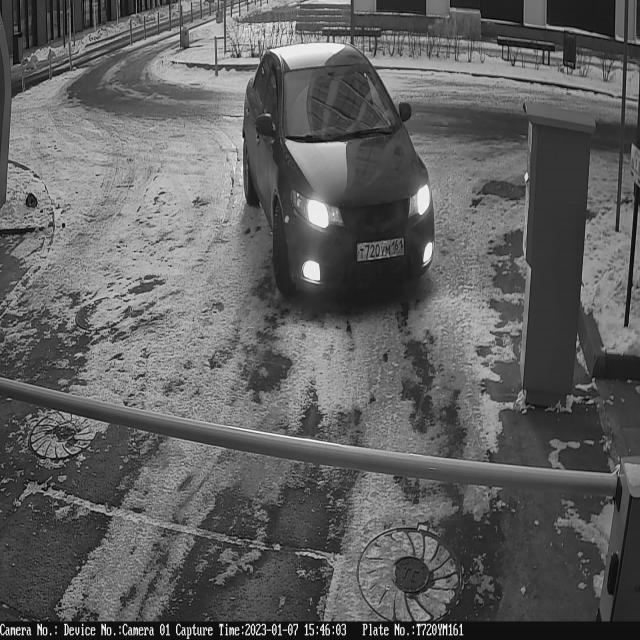car-plate-numbers: (356, 237, 410, 266)
